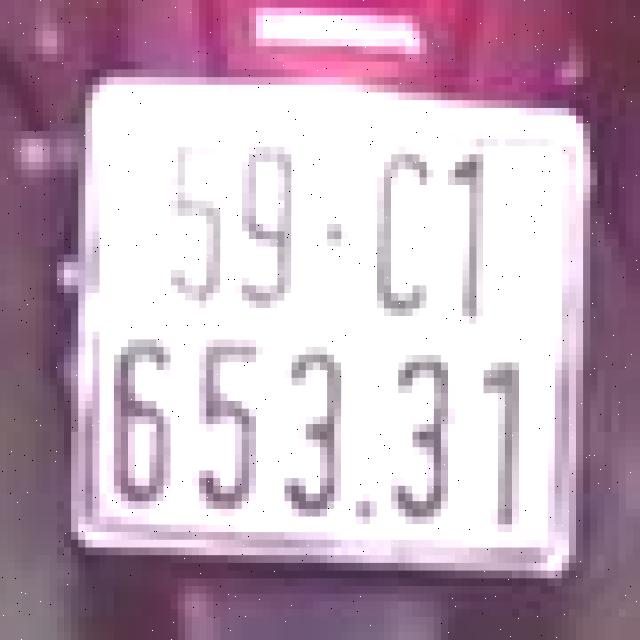1: (473, 340, 530, 548), (448, 135, 498, 335)
3: (274, 336, 352, 528), (381, 339, 458, 532)
5: (192, 316, 263, 517), (153, 120, 224, 312)
6: (96, 320, 181, 520)
9: (228, 135, 306, 320)
C: (359, 135, 445, 335)
